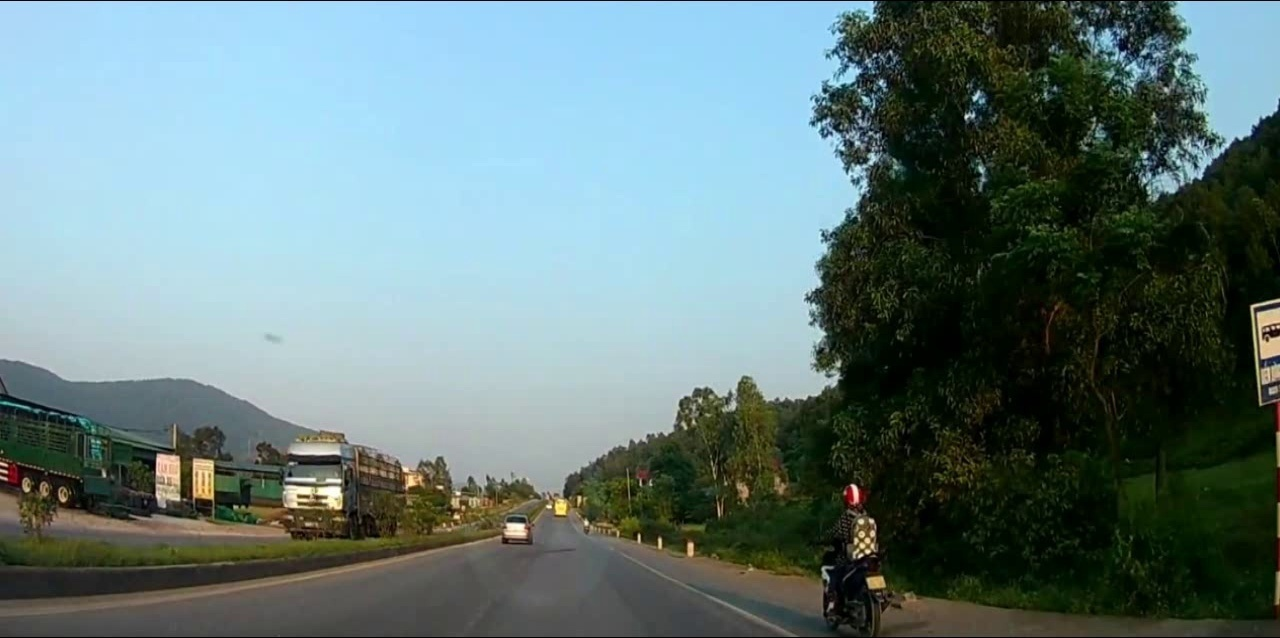Bien khac: (1249, 293, 1280, 409)
